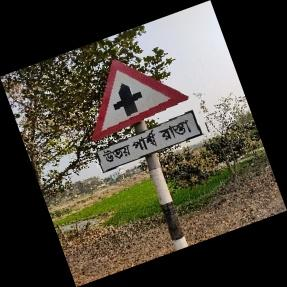Crossroad: (91, 58, 201, 178)
